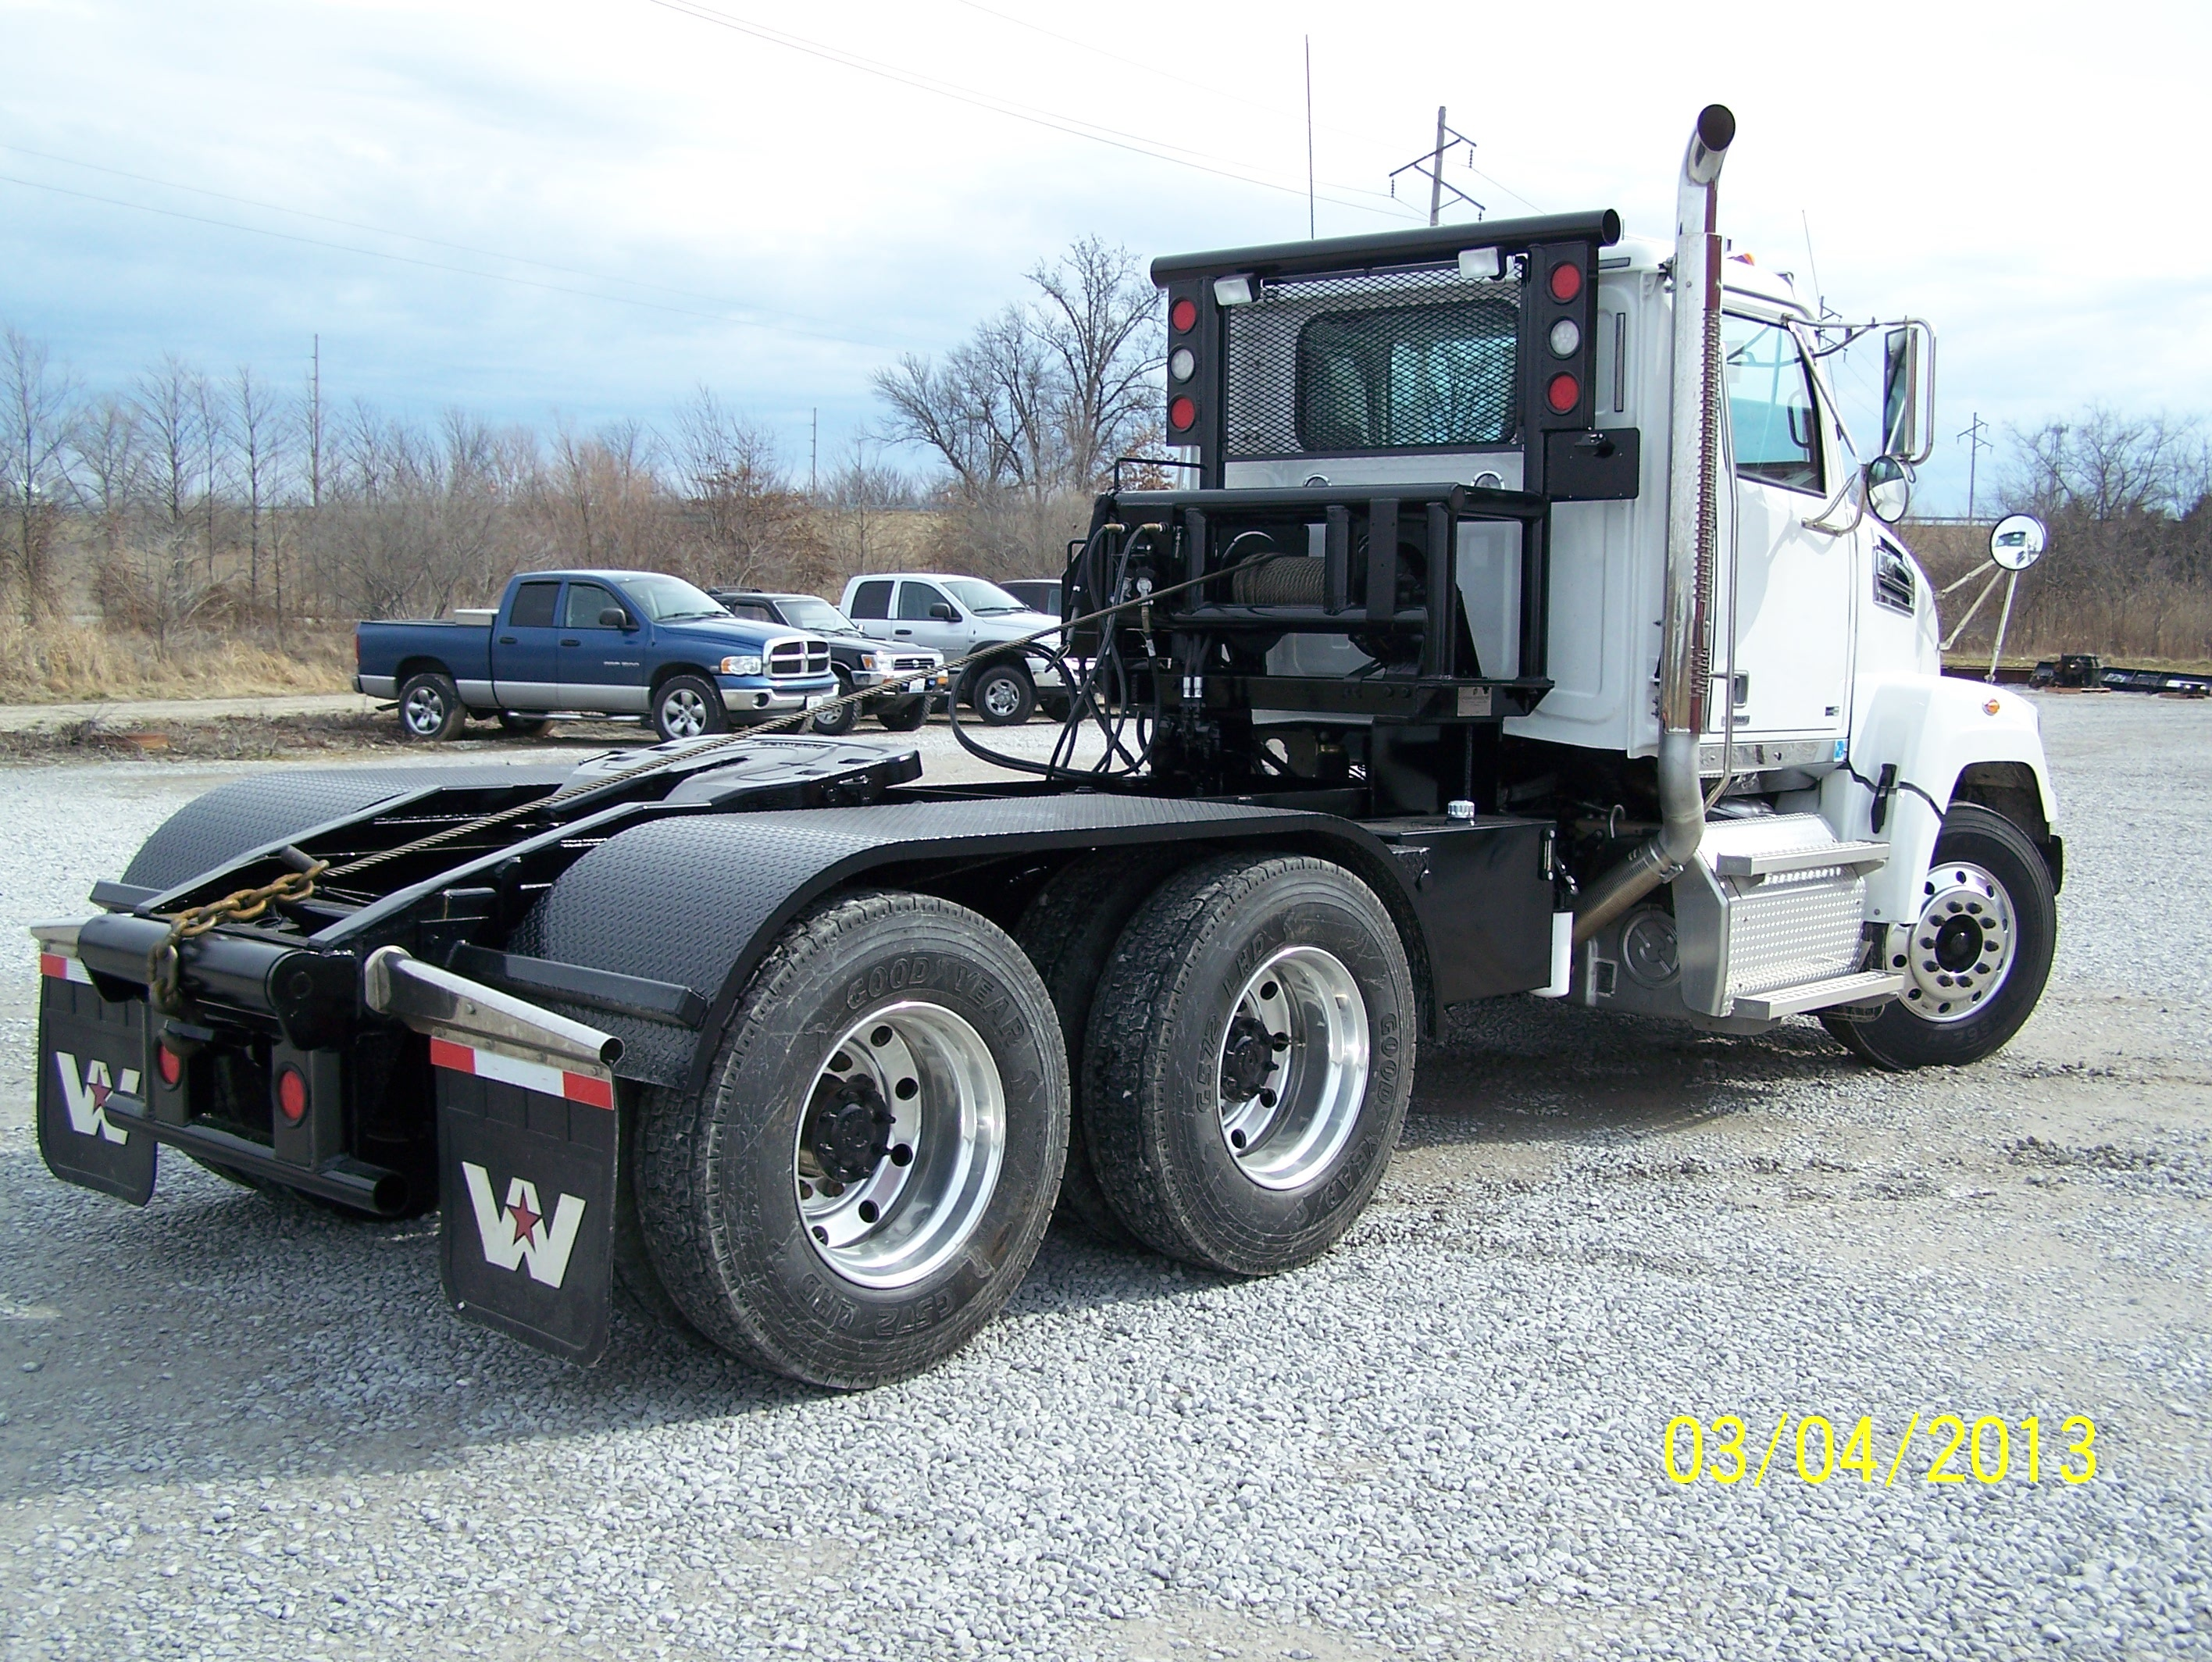heavy truck: (185, 209, 2086, 1390)
truck: (304, 532, 838, 754)
